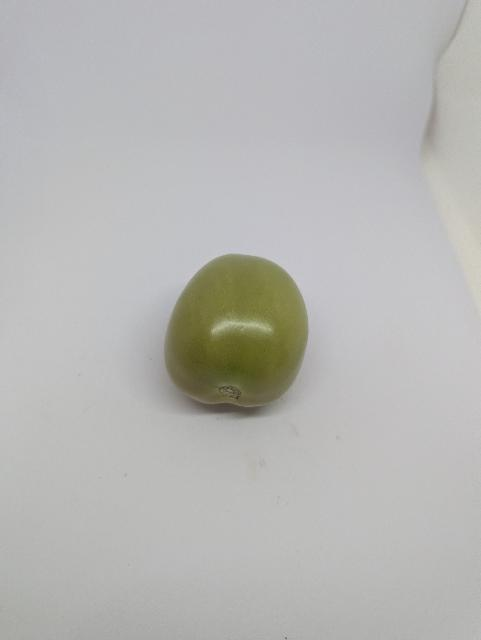green: (151, 246, 317, 421)
